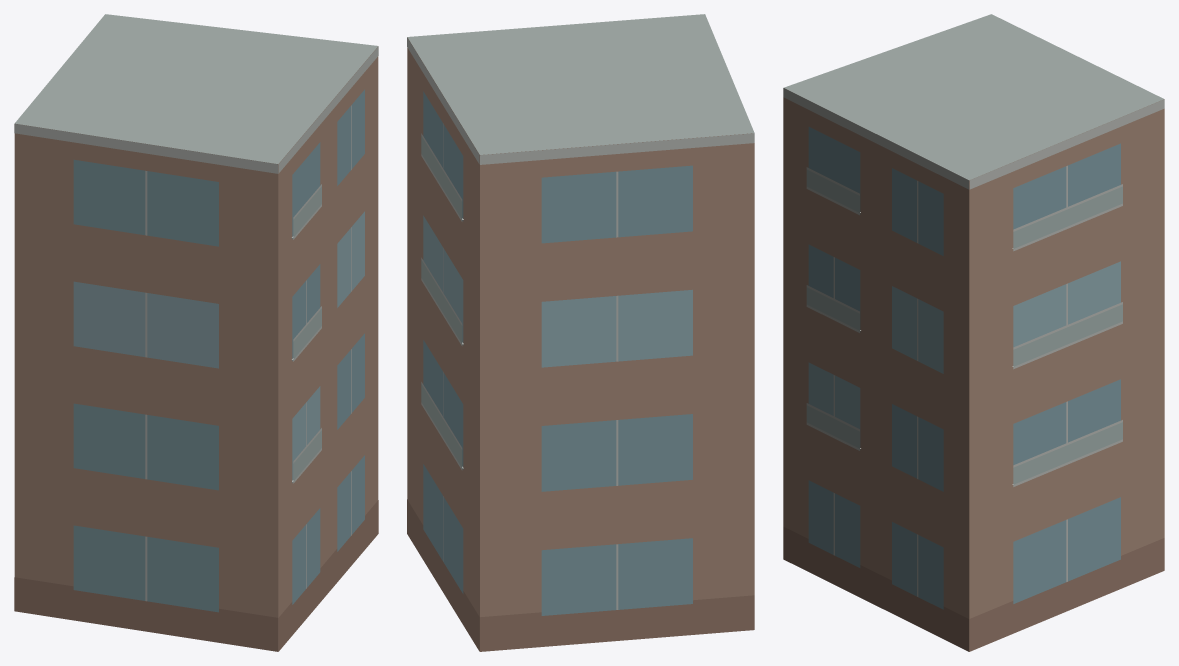
File: survey-upis-32724460.glb
3 views of the same model, side by side, from view 1: azimuth 30°, elevation 25°; view 2: azimuth 150°, elevation 25°; view 3: azimuth 270°, elevation 25° (orthographic). The views are drawn at different scales.
Parts seen in each view (by area): view 1: survey-upis-32724460.tmp; view 2: survey-upis-32724460.tmp; view 3: survey-upis-32724460.tmp.
Part boxes in pixels (x1=…): survey-upis-32724460.tmp: x1=14, y1=14, x2=378, y2=651; survey-upis-32724460.tmp: x1=407, y1=14, x2=754, y2=651; survey-upis-32724460.tmp: x1=783, y1=14, x2=1164, y2=651.
Size of the model in its own units: 9.24 by 12.2 by 8.95.
